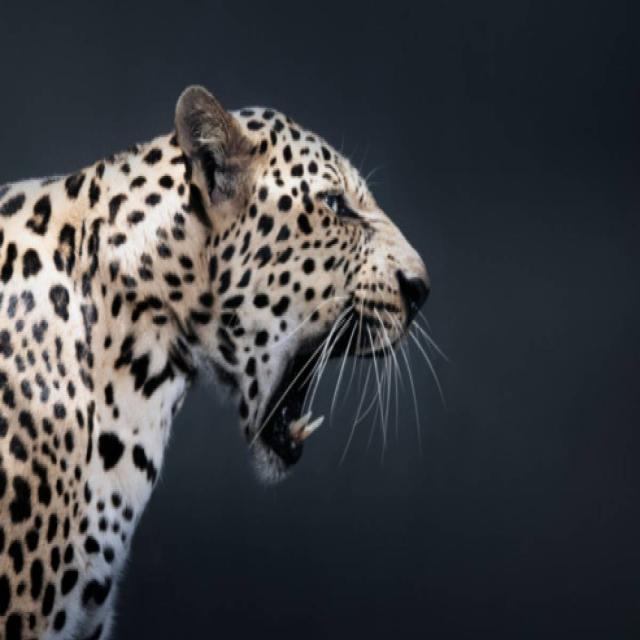Leopard: (4, 107, 426, 640)
